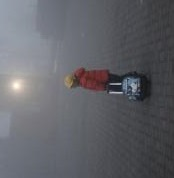person: (62, 67, 149, 102)
